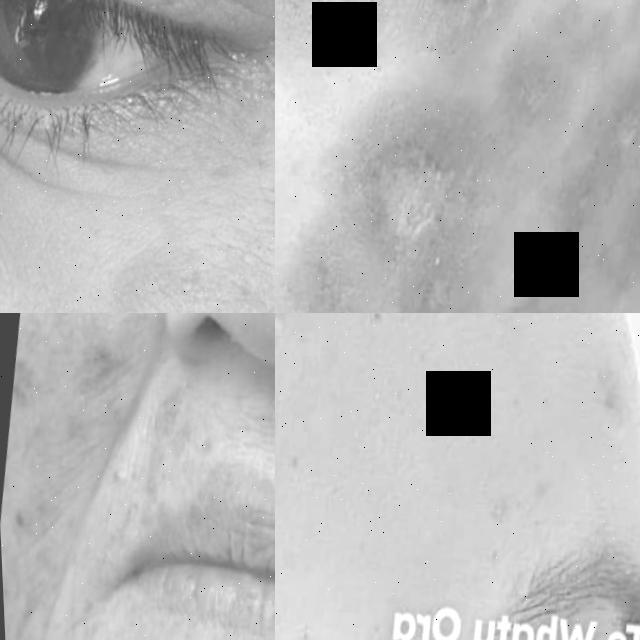lupus-detected: (275, 31, 616, 313), (0, 313, 191, 640), (48, 366, 275, 614), (0, 176, 275, 313), (553, 0, 640, 313), (275, 0, 557, 87), (134, 313, 275, 388)
